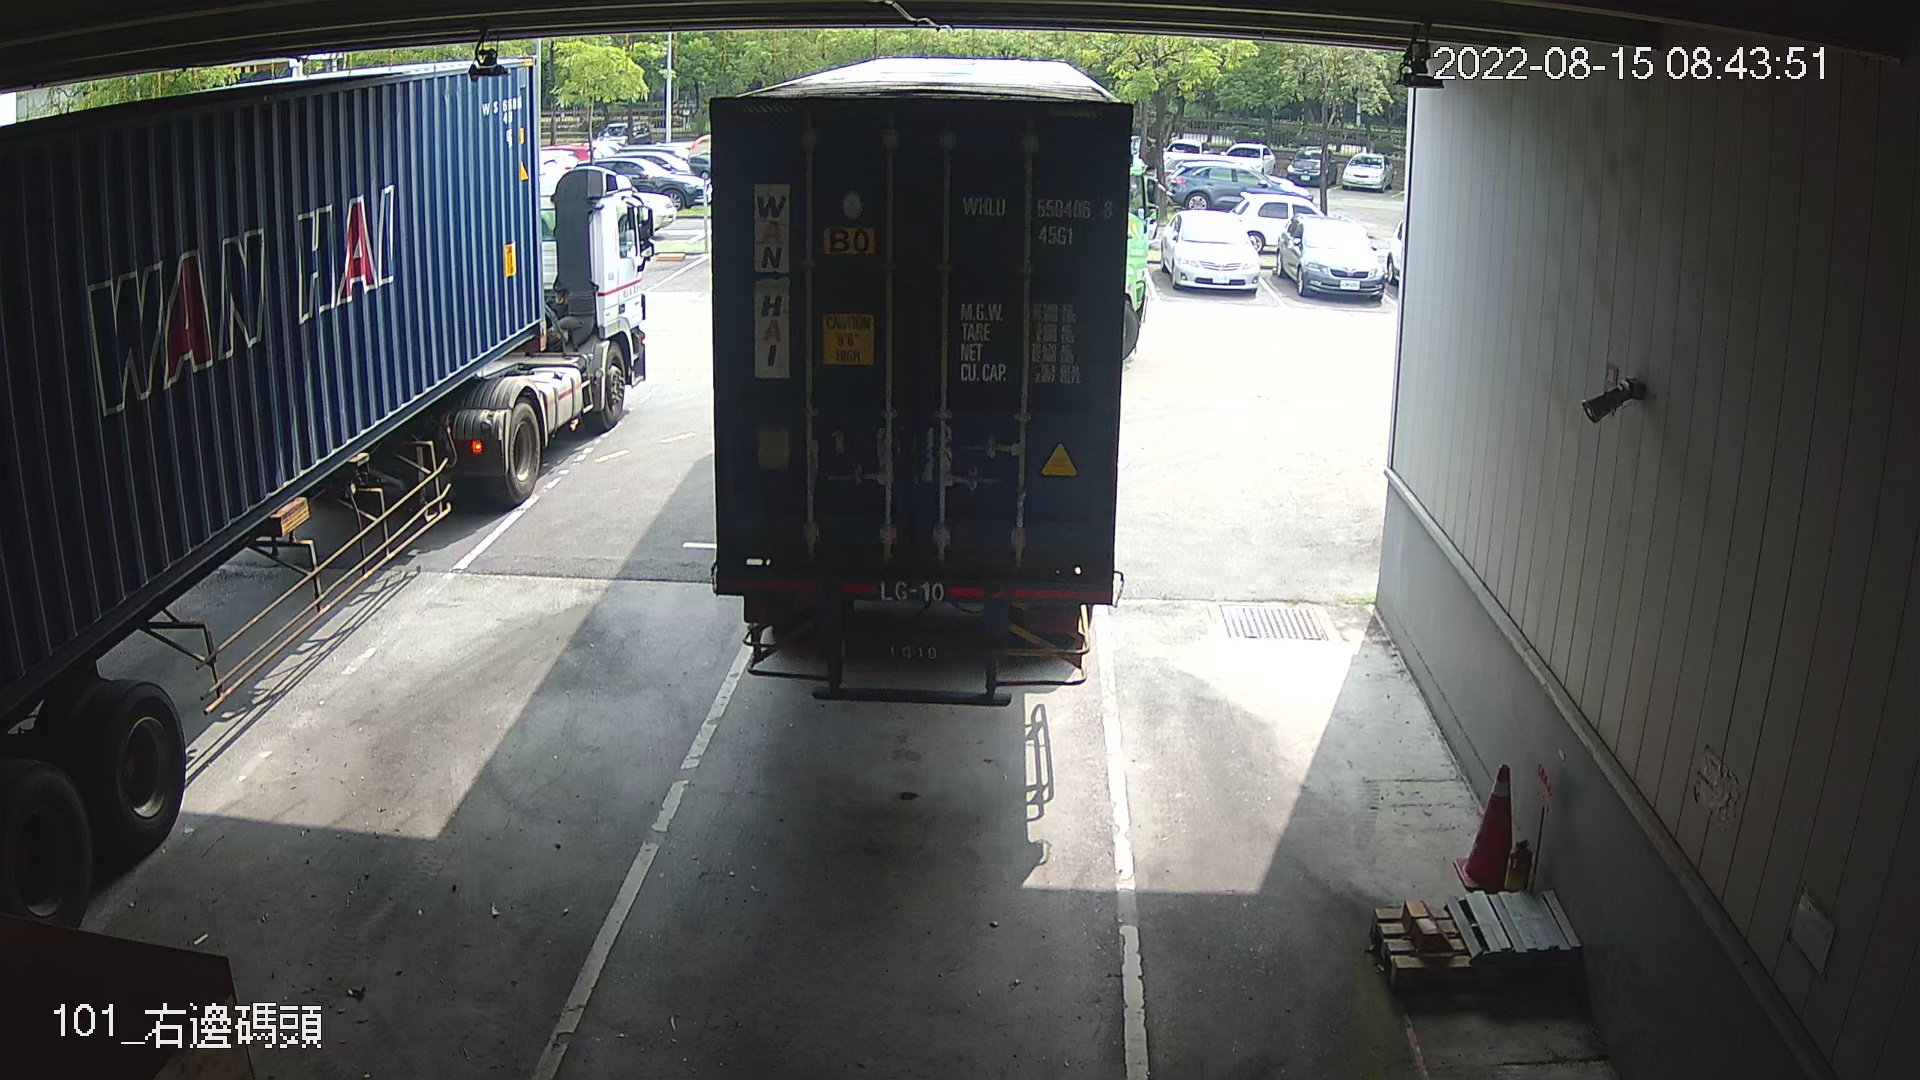container: (953, 181, 1124, 252)
